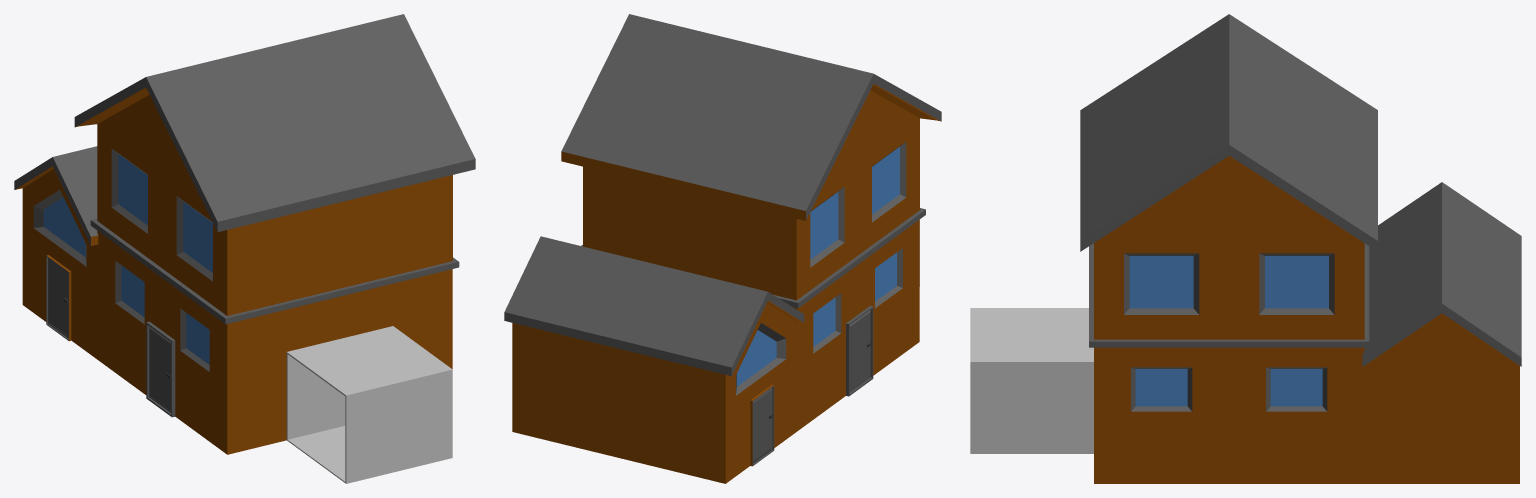
The model's file is big_house_2.glb.
The picture shows the model from 3 angles, left to right: view 1: azimuth 30°, elevation 25°; view 2: azimuth 150°, elevation 25°; view 3: azimuth 270°, elevation 25°; orthographic projection. The views are drawn at different scales.
Visible parts, largest first — view 1: BIG HOUSE.003_Material.067_0; view 2: BIG HOUSE.003_Material.067_0; view 3: BIG HOUSE.003_Material.067_0.
Boxes of the visible parts, x1,y1,x2,y2 form: BIG HOUSE.003_Material.067_0: (14,14,475,483); BIG HOUSE.003_Material.067_0: (504,14,941,483); BIG HOUSE.003_Material.067_0: (970,14,1521,483).
Size of the model in its own units: 2.23 by 2.76 by 3.97.
Materials: 1 (1 with a texture image).
